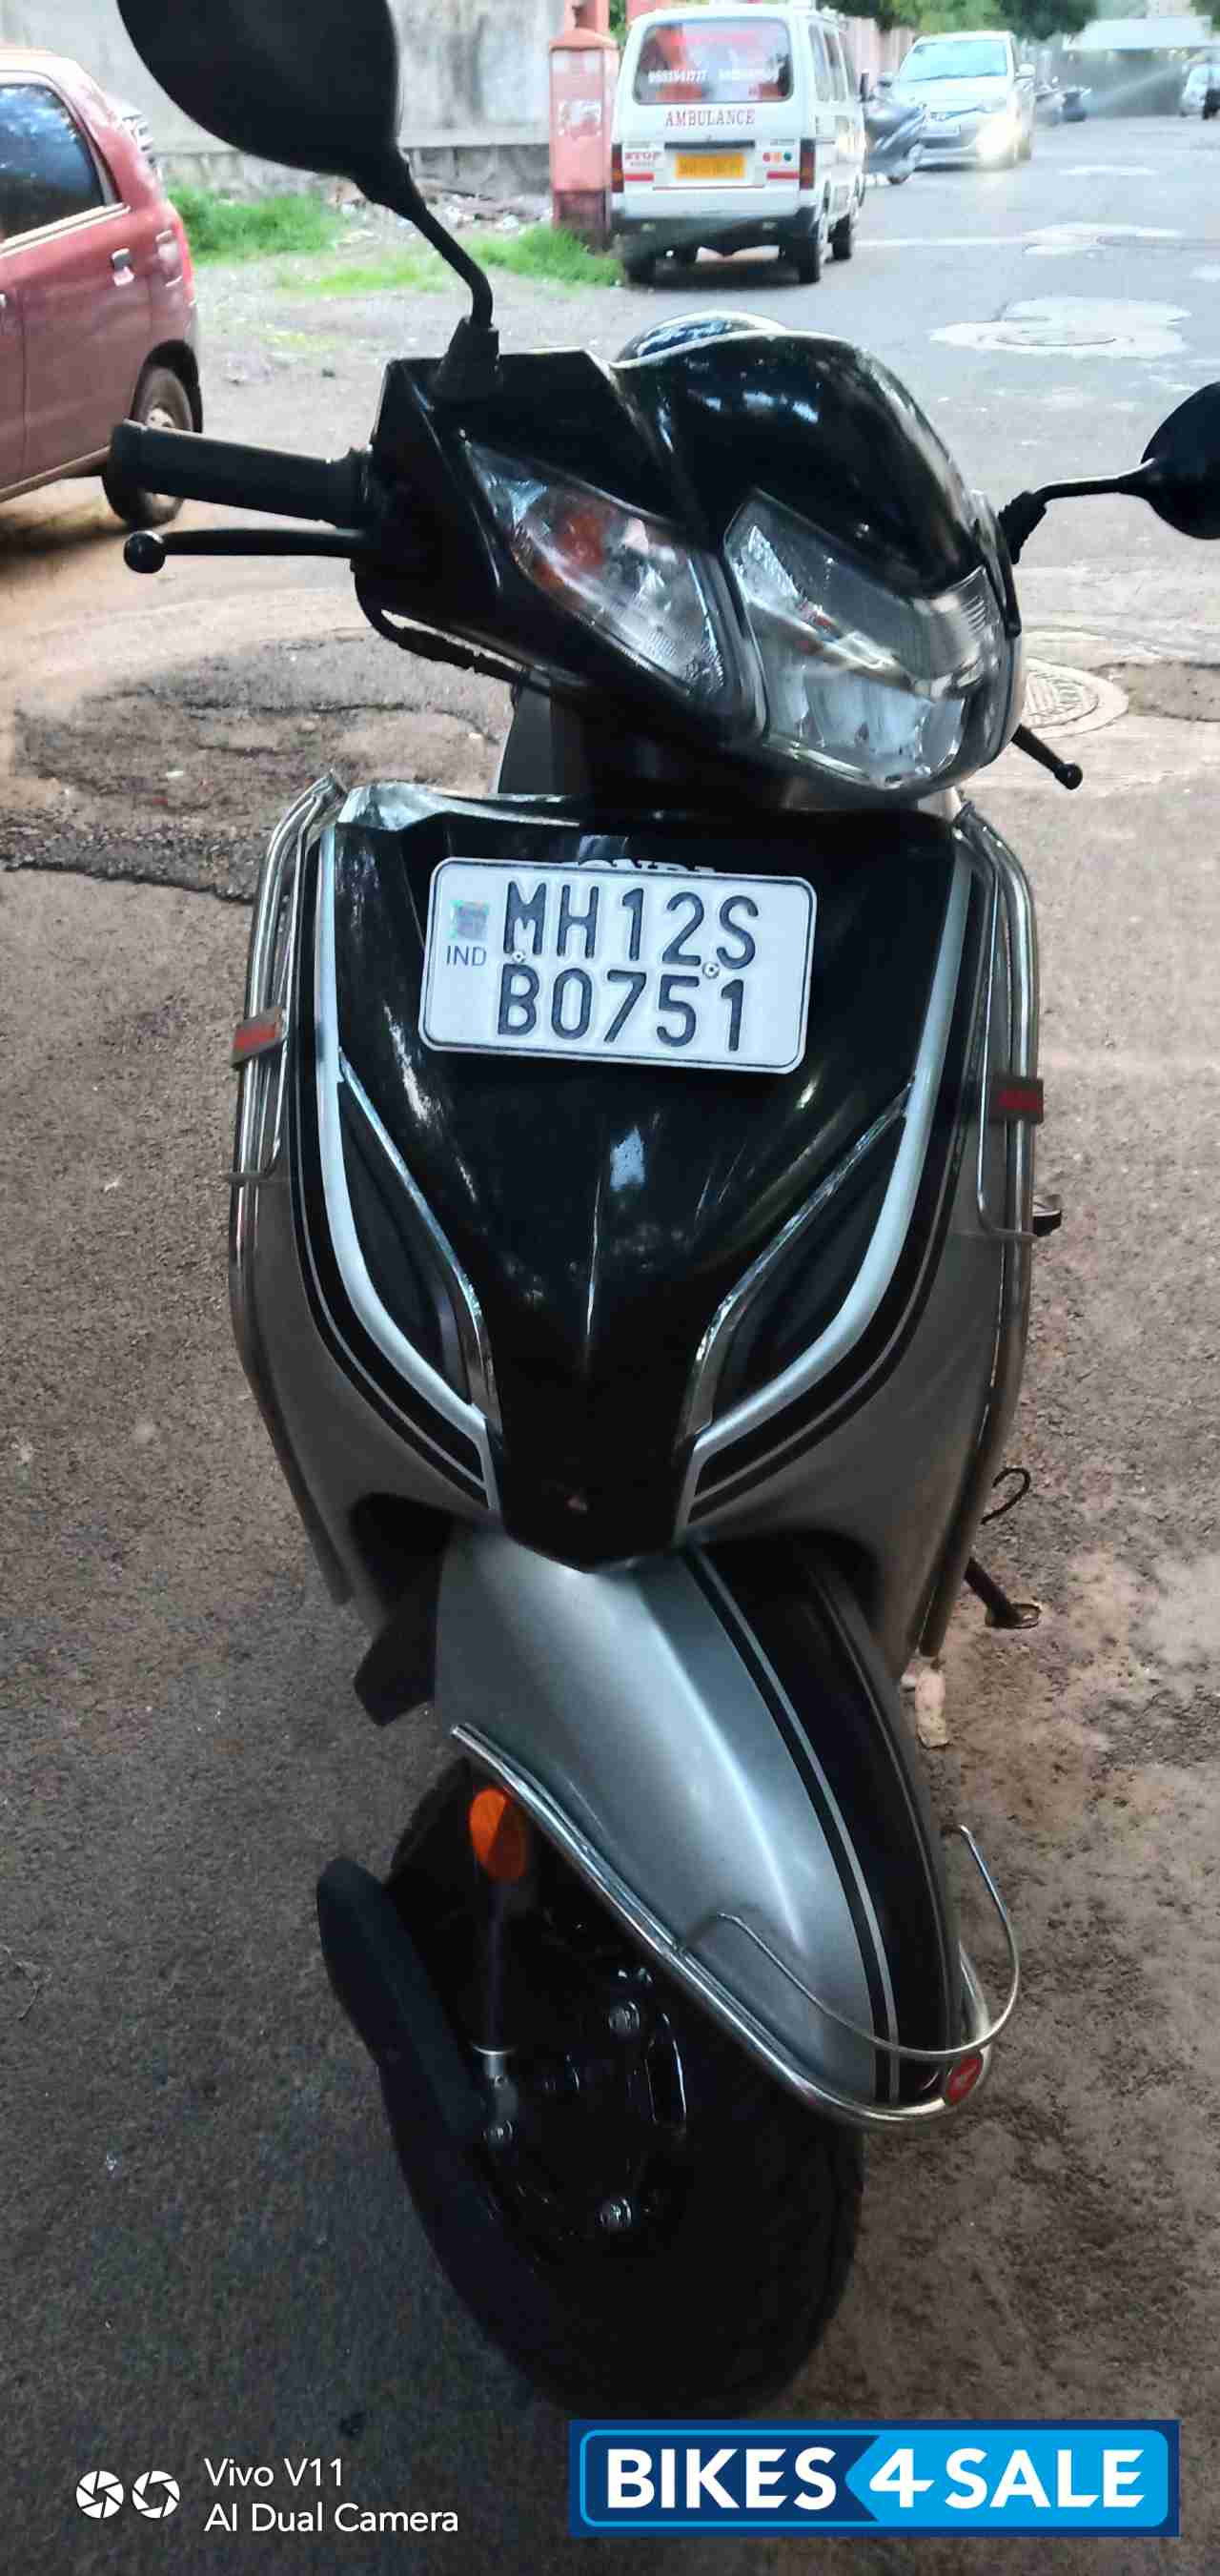doublelinenumberplate: (419, 850, 821, 1073)
